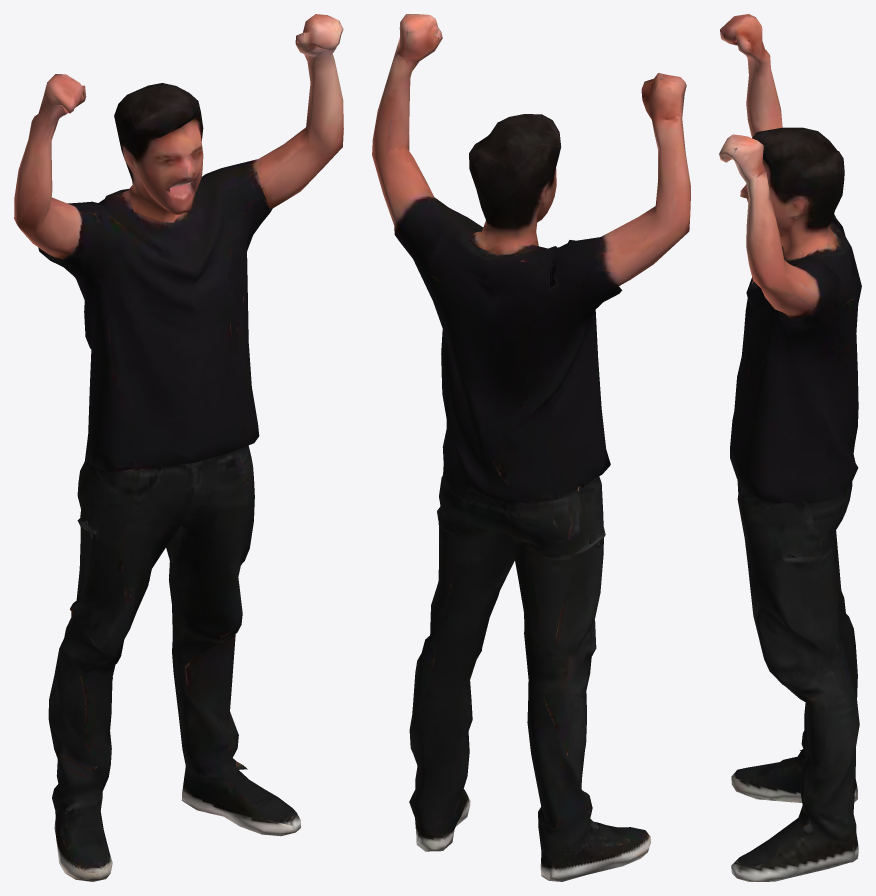
Rendered from fan-m-fists-s1.lo.glb.
3 views of the same model, side by side, from view 1: azimuth 30°, elevation 25°; view 2: azimuth 150°, elevation 25°; view 3: azimuth 270°, elevation 25° (orthographic). The views are drawn at different scales.
Parts seen in each view (by area): view 1: geometry_0; view 2: geometry_0; view 3: geometry_0.
Part boxes in pixels (x1,y1,x2,y2): geometry_0: (14, 14, 343, 881); geometry_0: (372, 14, 690, 881); geometry_0: (719, 14, 861, 881).
Size of the model in its own units: 0.4209 by 0.999 by 0.1706.
Materials: 1 (1 with a texture image).
